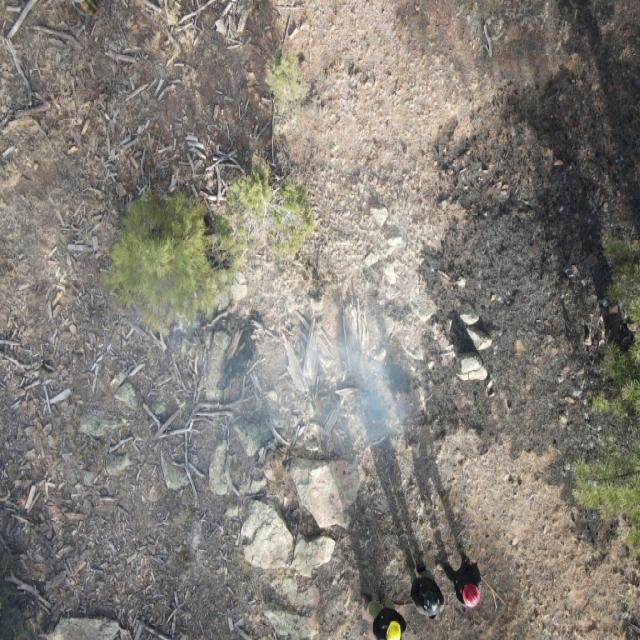fire: (360, 349, 389, 376), (363, 412, 378, 428), (392, 390, 403, 406)
smoke: (245, 306, 410, 462), (138, 282, 224, 366)
